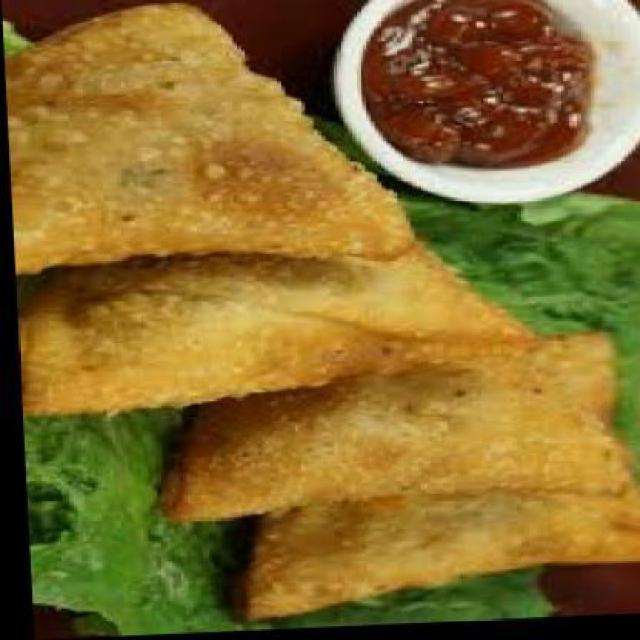samosa: (0, 0, 411, 280), (9, 216, 534, 416), (146, 336, 634, 524), (217, 482, 640, 623)
